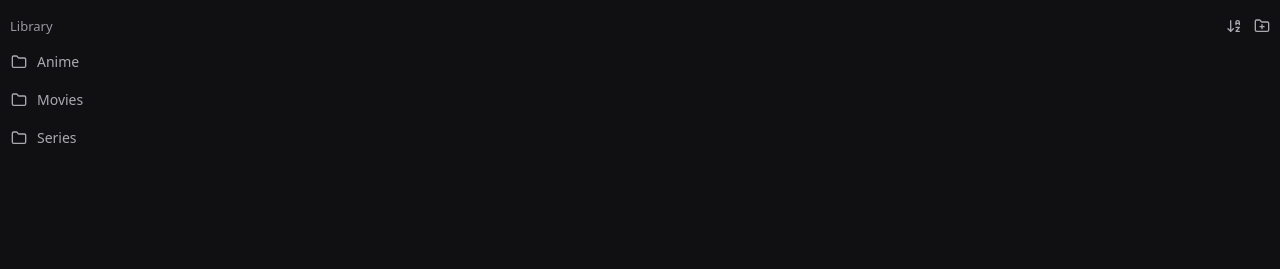
Test: library folder sort menu › shows the saved mode nameAscending as Name, A to Z
This screenshot has width=1280, height=269.
Step 1. Click the button named "Sort folders: Name, A to Z" → coordinates (1234, 26), box left=1220, top=12, right=1248, bottom=40
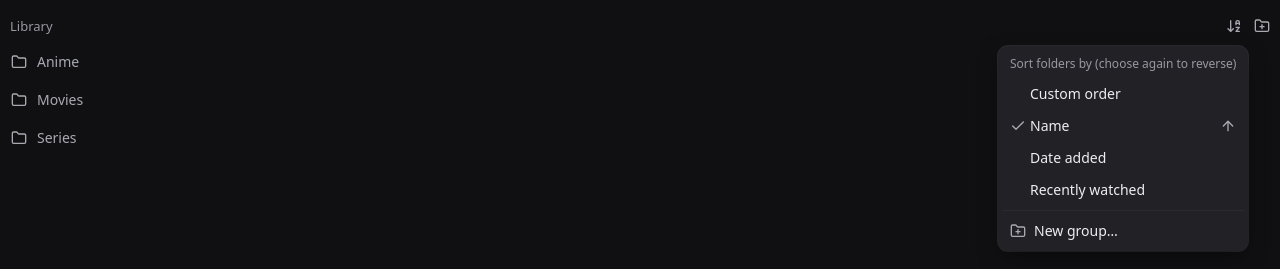
Result: the menu shows "Sort folders by (choose again to reverse)" at left=1010, top=55, right=1236, bottom=72
